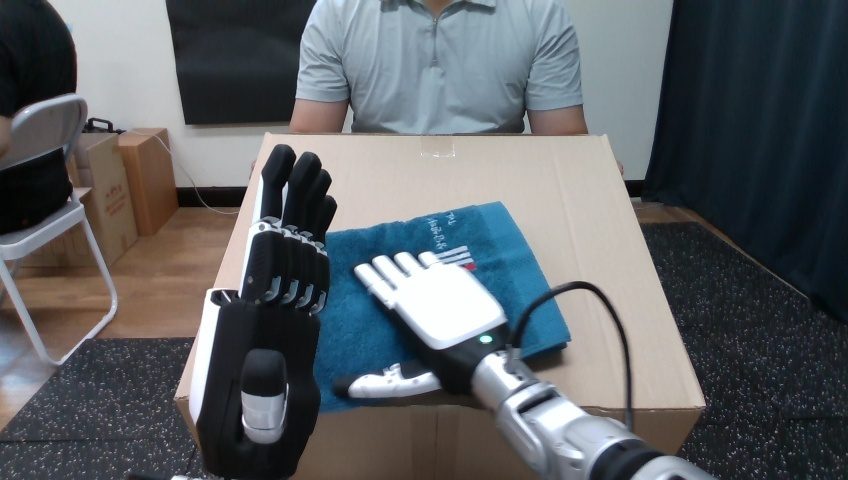left robot hand: (336, 249, 712, 479), (189, 144, 336, 478), (519, 288, 626, 425)
